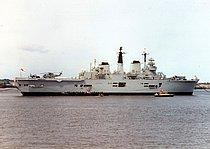MIL_Ship: (8, 49, 198, 95)
